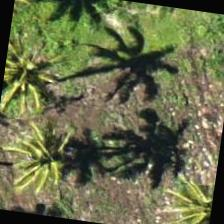Kelapa_Sawit: (0, 98, 97, 201), (0, 24, 72, 123)
